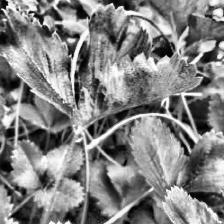Powdery Mildew Leaf: (70, 52, 204, 130)
